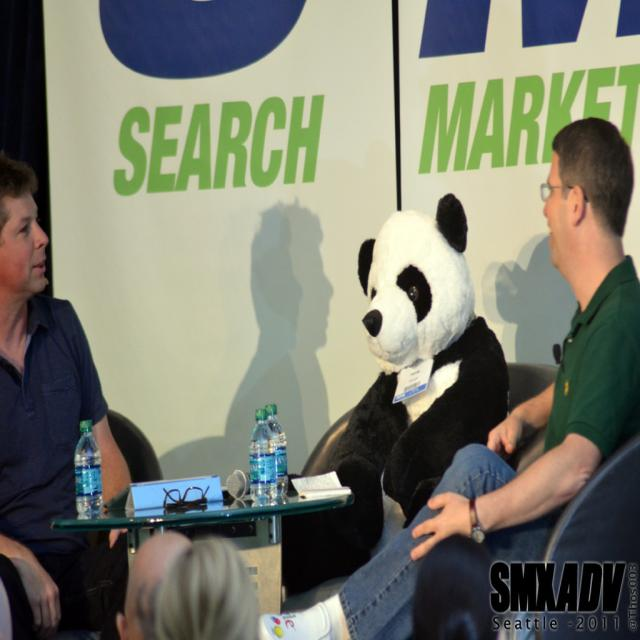panda: (293, 192, 511, 580)
